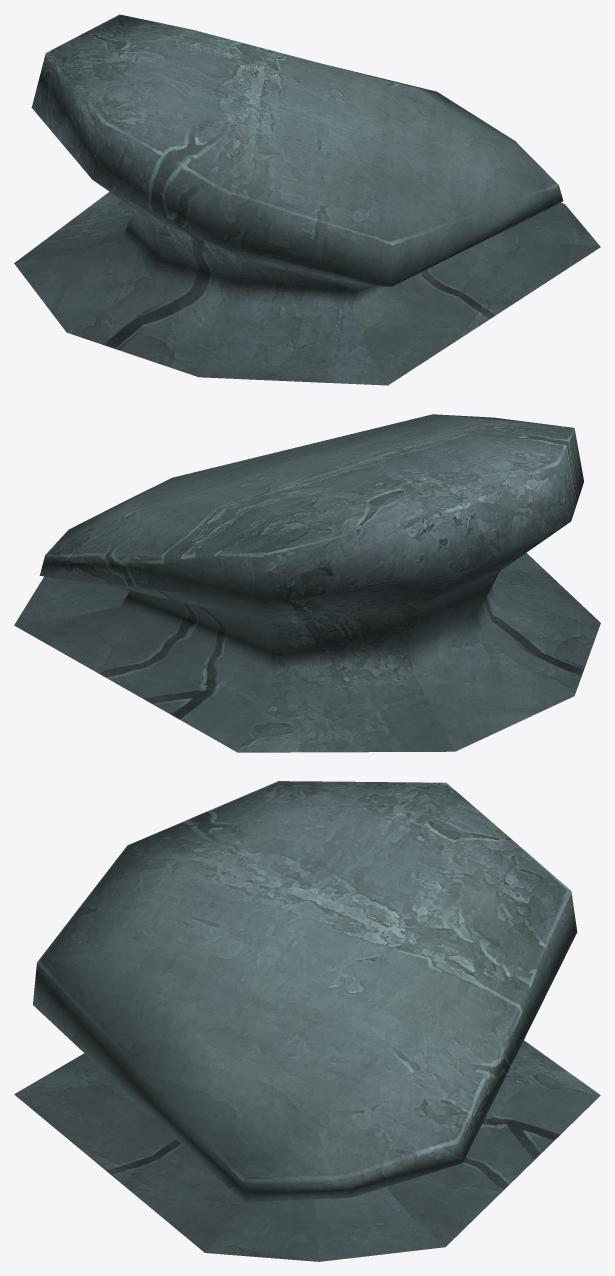
File: Rock_9.fbx
3 views of the same model, one above another, from view 1: azimuth 30°, elevation 25°; view 2: azimuth 150°, elevation 25°; view 3: azimuth 270°, elevation 25° (orthographic). The views are drawn at different scales.
Parts seen in each view (by area): view 1: pPlane9; view 2: pPlane9; view 3: pPlane9.
Boxes of the visible parts, x1,y1,x2,y2 form: pPlane9: (14, 14, 600, 385); pPlane9: (14, 414, 600, 752); pPlane9: (14, 781, 600, 1261).
Bounding box in the file's own units: 7.21 × 3 × 6.73.
